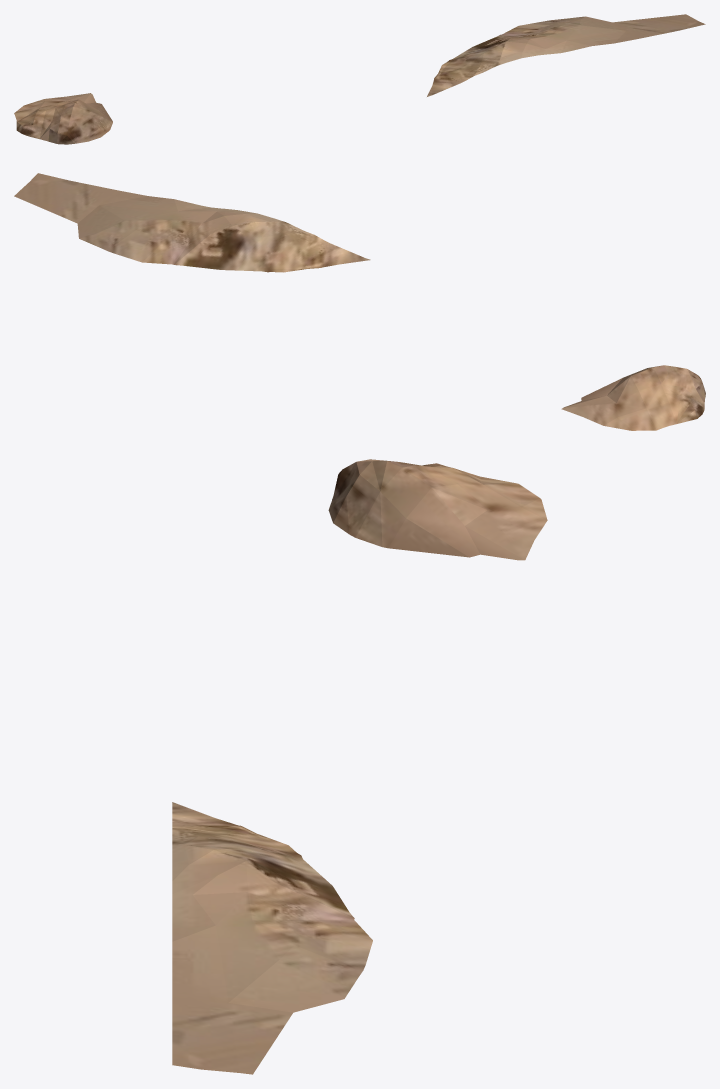
The picture shows the model from 3 angles, top to bottom: view 1: azimuth 30°, elevation 25°; view 2: azimuth 150°, elevation 25°; view 3: azimuth 270°, elevation 25°; orthographic projection. The views are drawn at different scales.
Size of the model in its own units: 2.05 by 0.0763 by 0.5359.
Materials: 1 (1 with a texture image).
